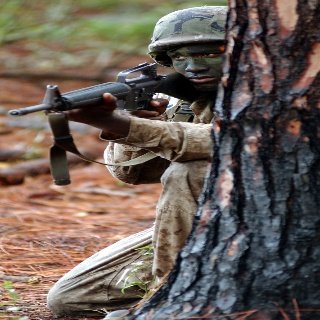rifle: (8, 60, 201, 119)
